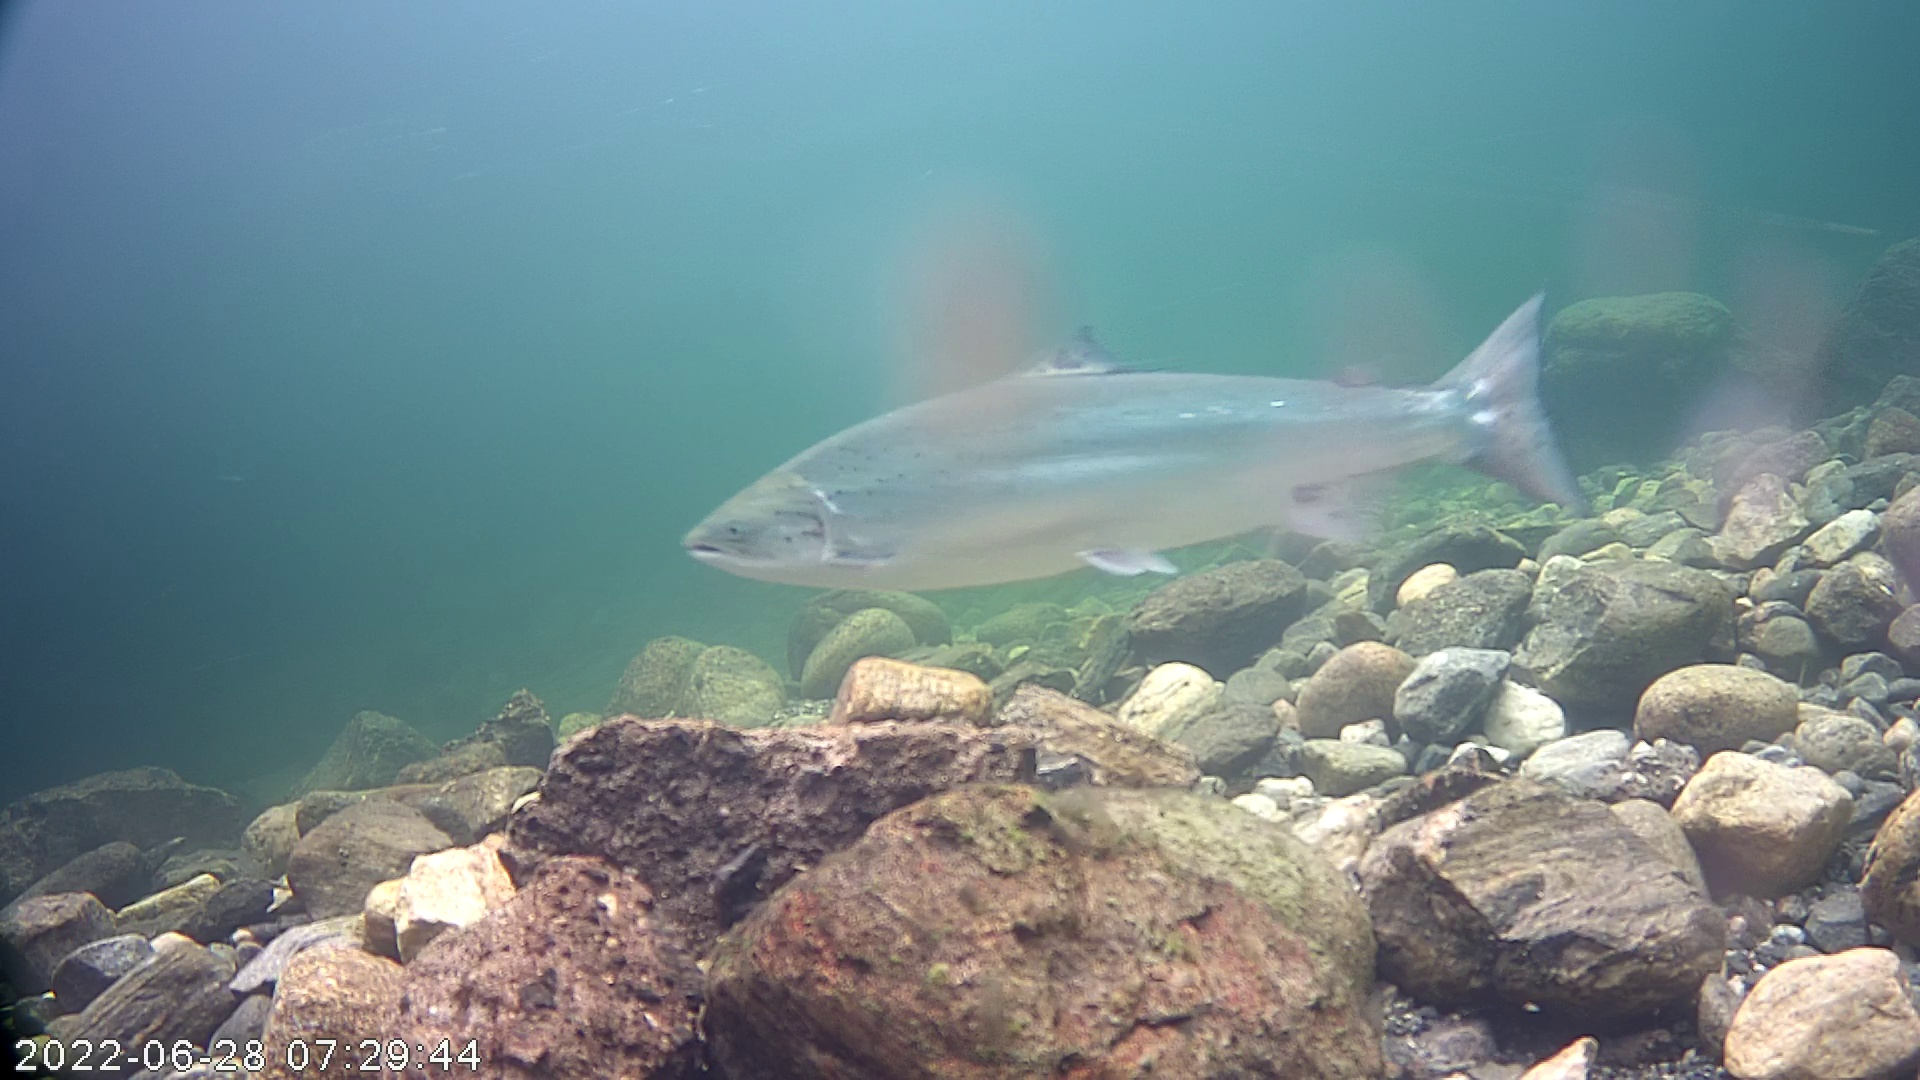salmon: (678, 214, 1607, 632)
